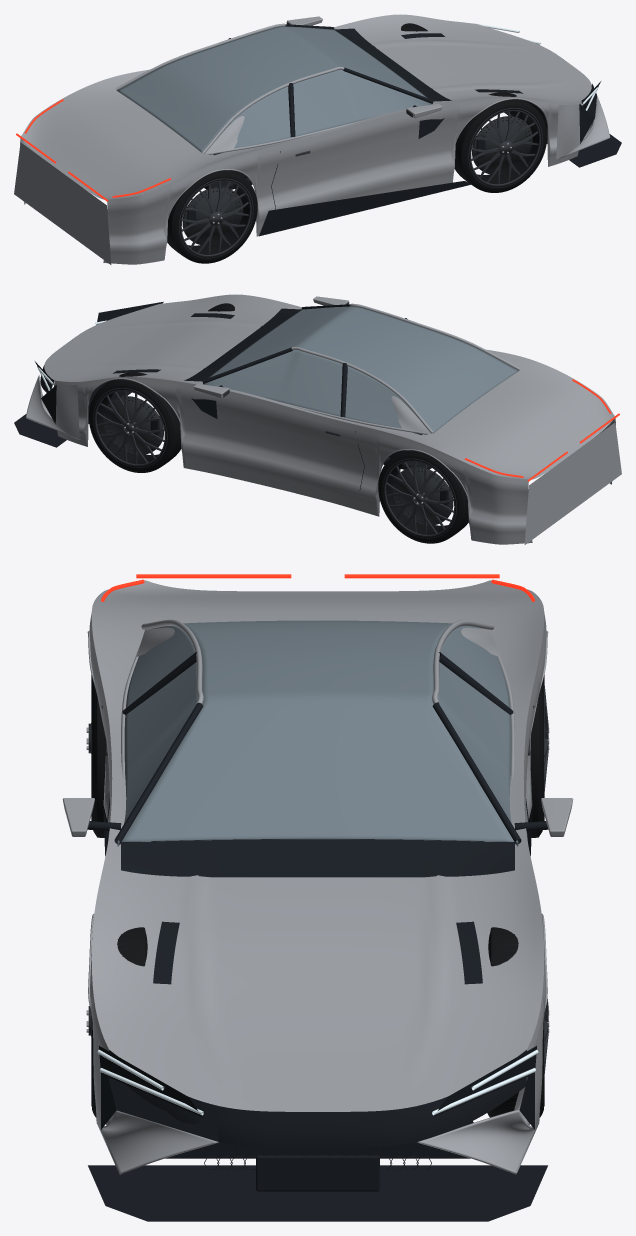
Rendered from veloc-body-v3.fbx.
3 views of the same model, one above another, from view 1: azimuth 30°, elevation 25°; view 2: azimuth 150°, elevation 25°; view 3: azimuth 270°, elevation 25° (orthographic). The views are drawn at different scales.
Visible parts, largest first — view 1: Continuous sculpted hood and haunches, Right body with wheel apertures, Windshield panoramic roof rear glazing, Quarter and door glazing, Rear bumper, Low profile performance tire.002, Low profile performance tire, Angular rocker recess, Vented brake rotor.002, Vented brake rotor, Windshield cowl, Outer fender front cheek (+9 smaller); view 2: Continuous sculpted hood and haunches, Left body with wheel apertures, Windshield panoramic roof rear glazing, Quarter and door glazing.001, Rear bumper, Low profile performance tire.003, Low profile performance tire.001, Vented brake rotor.001, Vented brake rotor.003, Windshield cowl, Outer fender front cheek.001, Front carbon splitter (+9 smaller); view 3: Continuous sculpted hood and haunches, Windshield panoramic roof rear glazing, Front carbon splitter, Windshield cowl, Swept upper bumper, Quarter and door glazing, Quarter and door glazing.001, Inset front plate, Swept four-sided bumper ribbon.001, Swept four-sided bumper ribbon, Deep central intake, Recess above bumper ribbon (+14 smaller).
Part boxes in pixels (left/top/right/bottom): Continuous sculpted hood and haunches: left=21, top=14, right=591, bottom=199; Right body with wheel apertures: left=103, top=97, right=581, bottom=264; Windshield panoramic roof rear glazing: left=117, top=26, right=427, bottom=153; Quarter and door glazing: left=208, top=70, right=432, bottom=153; Rear bumper: left=14, top=142, right=111, bottom=264; Low profile performance tire.002: left=454, top=92, right=547, bottom=192; Low profile performance tire: left=167, top=170, right=257, bottom=263; Angular rocker recess: left=259, top=181, right=470, bottom=236; Vented brake rotor.002: left=472, top=116, right=532, bottom=174; Vented brake rotor: left=182, top=186, right=243, bottom=245; Windshield cowl: left=334, top=28, right=451, bottom=101; Outer fender front cheek: left=556, top=104, right=580, bottom=159; Continuous sculpted hood and haunches: left=44, top=294, right=614, bottom=479; Left body with wheel apertures: left=54, top=377, right=532, bottom=544; Windshield panoramic roof rear glazing: left=208, top=306, right=518, bottom=433; Quarter and door glazing.001: left=203, top=350, right=427, bottom=433; Rear bumper: left=524, top=422, right=621, bottom=544; Low profile performance tire.003: left=88, top=372, right=181, bottom=472; Low profile performance tire.001: left=378, top=450, right=468, bottom=543; Vented brake rotor.001: left=392, top=466, right=453, bottom=525; Vented brake rotor.003: left=103, top=396, right=163, bottom=454; Windshield cowl: left=184, top=308, right=301, bottom=381; Outer fender front cheek.001: left=55, top=384, right=79, bottom=439; Front carbon splitter: left=14, top=391, right=131, bottom=447; Continuous sculpted hood and haunches: left=91, top=580, right=544, bottom=1111; Windshield panoramic roof rear glazing: left=118, top=620, right=517, bottom=842; Front carbon splitter: left=88, top=1165, right=547, bottom=1221; Windshield cowl: left=121, top=842, right=514, bottom=877; Swept upper bumper: left=109, top=1050, right=526, bottom=1147; Quarter and door glazing: left=117, top=626, right=200, bottom=846; Quarter and door glazing.001: left=435, top=626, right=518, bottom=846; Inset front plate: left=256, top=1155, right=379, bottom=1191; Swept four-sided bumper ribbon.001: left=417, top=1109, right=538, bottom=1174; Swept four-sided bumper ribbon: left=97, top=1110, right=218, bottom=1174; Deep central intake: left=165, top=1121, right=473, bottom=1158; Recess above bumper ribbon: left=108, top=1077, right=218, bottom=1141.
Bounding box in the file's own units: 486 × 126 × 207.
